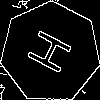H: (25, 27, 82, 81)
